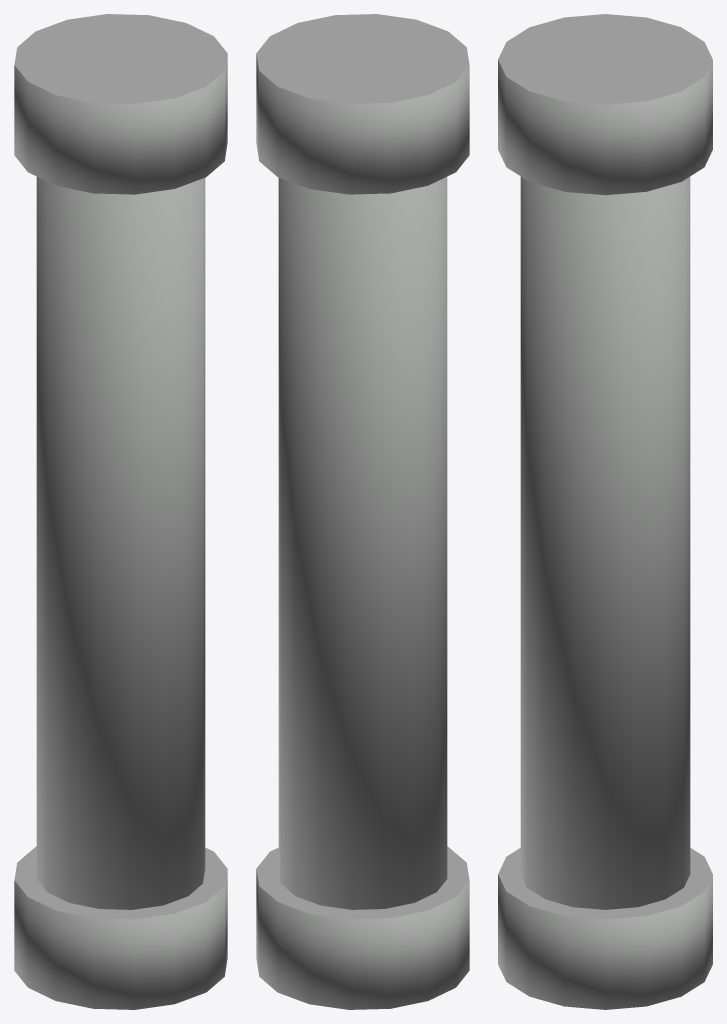
File: pipe_m00.obj
3 views of the same model, side by side, from view 1: azimuth 30°, elevation 25°; view 2: azimuth 150°, elevation 25°; view 3: azimuth 270°, elevation 25° (orthographic).
Visible parts, largest first — view 1: pipe, cap-0.18, cap0.18; view 2: pipe, cap-0.18, cap0.18; view 3: pipe, cap-0.18, cap0.18.
Boxes of the visible parts, x1,y1,x2,y2 form: pipe: (36,177,205,909); cap-0.18: (14,14,227,194); cap0.18: (14,846,227,1009); pipe: (278,177,447,909); cap-0.18: (256,14,469,194); cap0.18: (256,846,469,1009); pipe: (520,176,690,909); cap-0.18: (498,14,712,195); cap0.18: (498,848,712,1009).
Bounding box in the file's own units: 0.086 × 0.4 × 0.086.
Materials: 1 (1 with a texture image).
